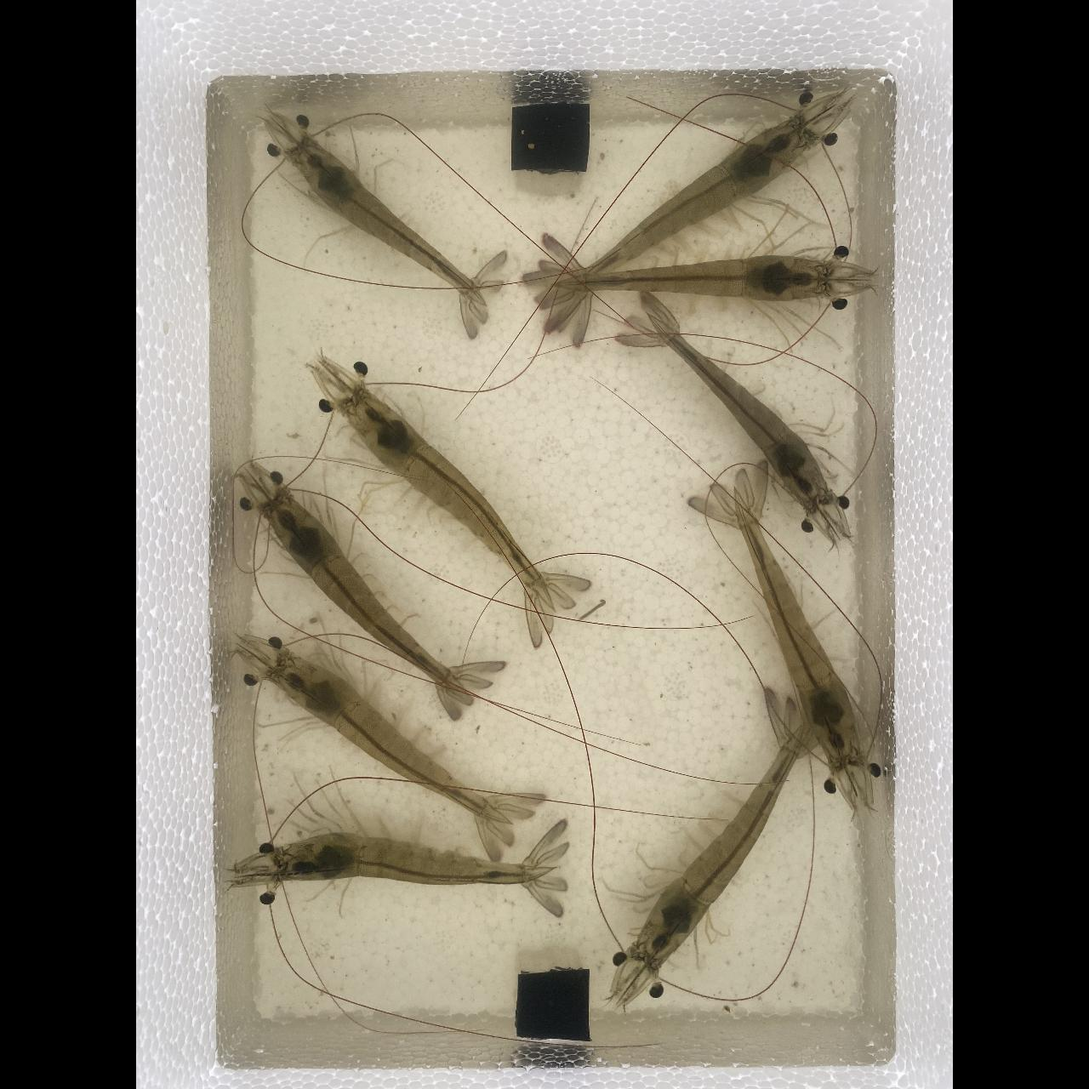box: (510, 100, 590, 172), (516, 970, 589, 1040)
top_shrimp: (347, 395, 555, 606), (567, 122, 813, 289), (272, 657, 507, 822), (267, 497, 463, 693), (638, 733, 801, 965), (737, 504, 858, 761), (291, 141, 482, 298), (662, 330, 822, 504), (276, 834, 551, 883), (552, 253, 830, 301), (605, 273, 607, 276)
